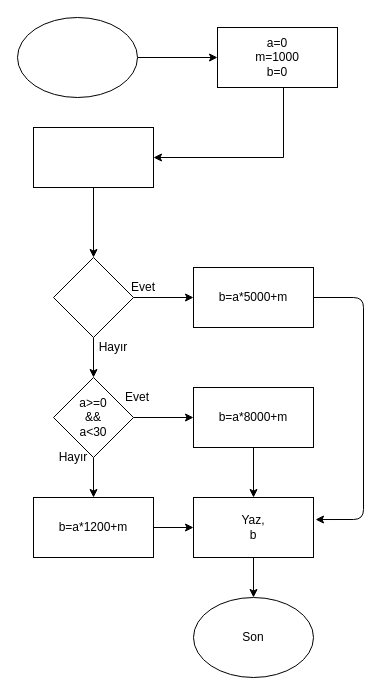
The diagram is 389 pixels wide and 695 high, and some of its shapes have lost their labels. The shapes that lost their labels are listed below. From the top down, each one's centre as x and y in pixels, then its label:
At [77,57]: "Başla".
At [93,157]: "Parça gir, a".
At [93,297]: "a>0 && a<10".
